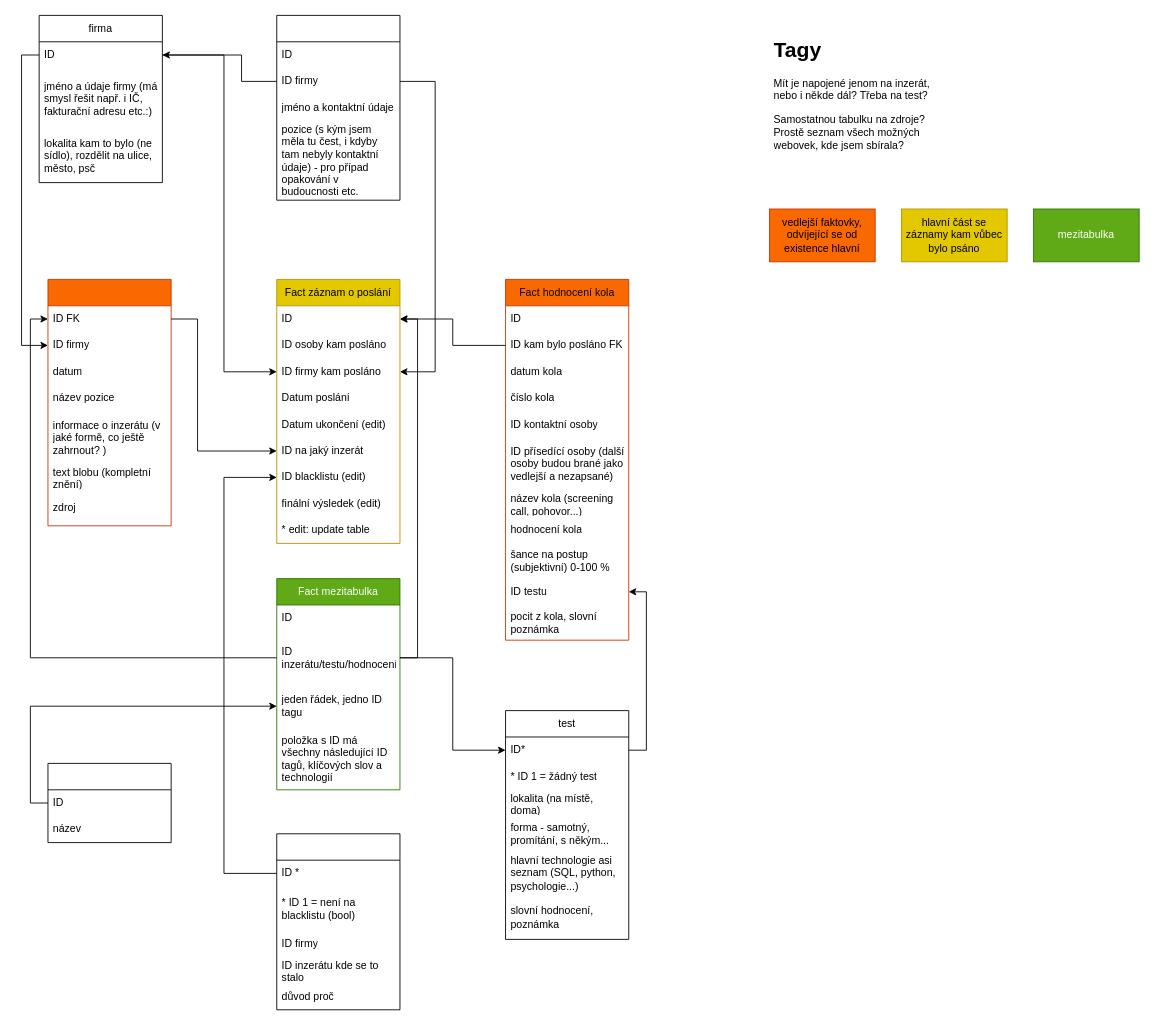
This 1155x1025 diagram has some shape labels left out. The box of each missing label's shape, as (x1, y1, x2, y2) in pixels:
dim blacklist: (276, 833, 400, 1010)
dimTagy, Klíčová slova a technologie: (47, 763, 171, 843)
Fact/dim ? SbíráníInfo o inzerátu: (47, 279, 171, 526)
osoba: (276, 15, 400, 200)
